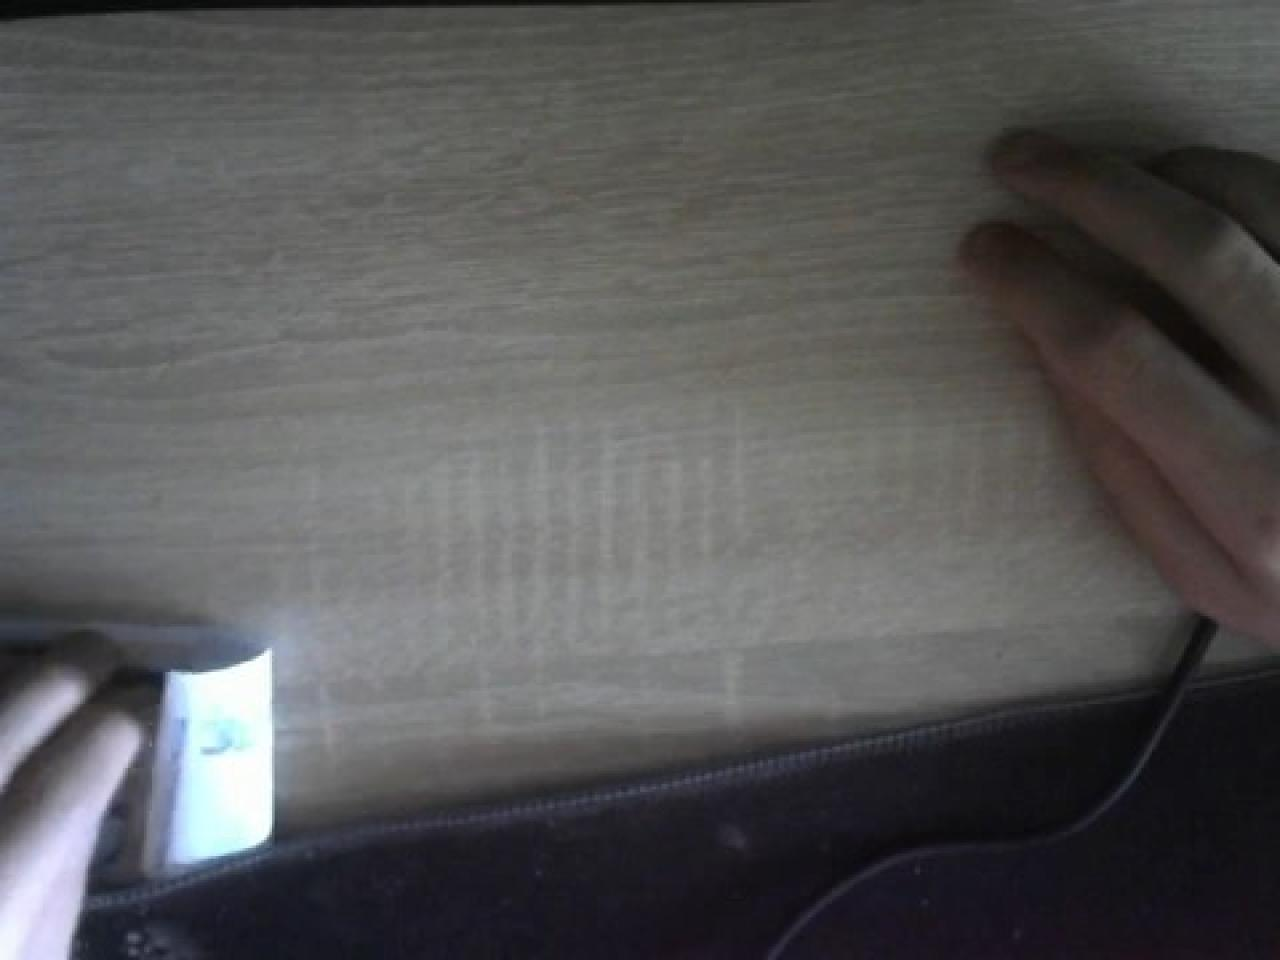20leva: (0, 626, 264, 960)
